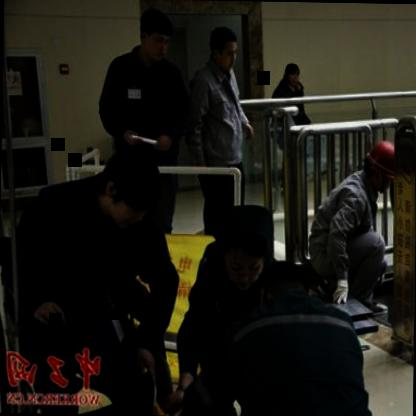head: (208, 201, 277, 289), (92, 145, 162, 229), (252, 253, 312, 317), (132, 7, 176, 66), (205, 24, 241, 73), (280, 58, 304, 90)
helmet: (363, 137, 398, 192)
